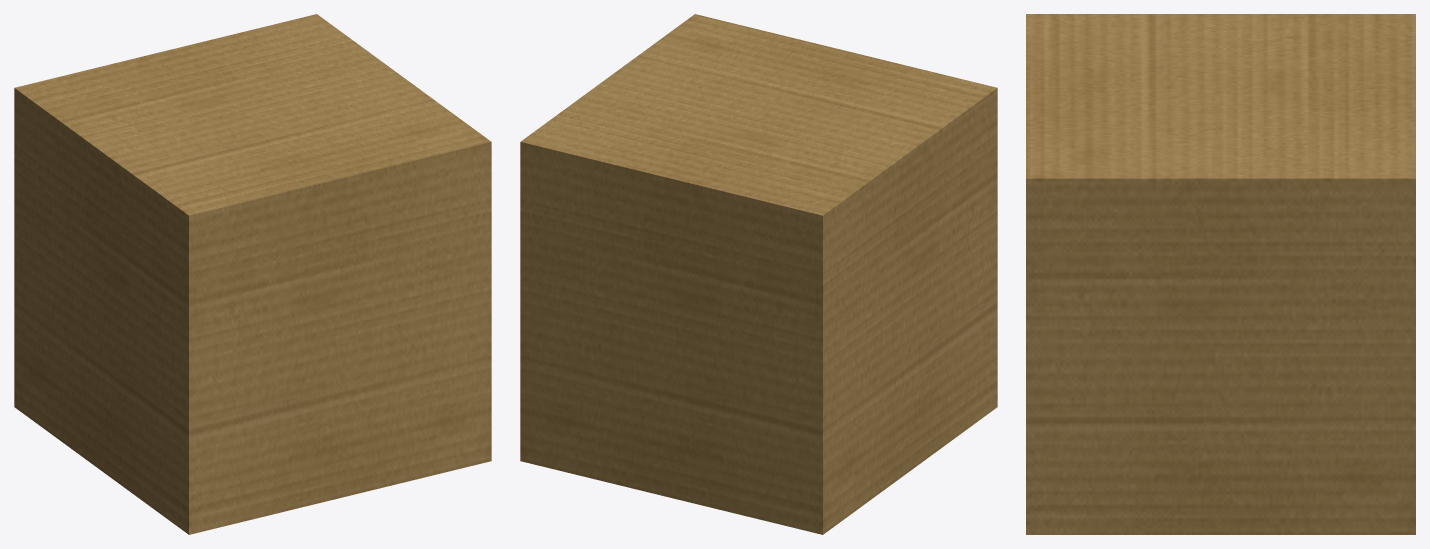
File: box_openable.fbx
The picture shows the model from 3 angles, left to right: view 1: azimuth 30°, elevation 25°; view 2: azimuth 150°, elevation 25°; view 3: azimuth 270°, elevation 25°; orthographic projection. The views are drawn at different scales.
Parts seen in each view (by area): view 1: Cube.004, Cube.005; view 2: Cube.004, Cube.005; view 3: Cube.004, Cube.005.
Part boxes in pixels (x1,y1,x2,y2): Cube.004: (14,91,491,534); Cube.005: (14,14,491,218); Cube.004: (520,91,997,534); Cube.005: (520,14,997,218); Cube.004: (1026,181,1415,534); Cube.005: (1026,14,1415,181).
Bounding box in the file's own units: 129 × 130 × 129.
